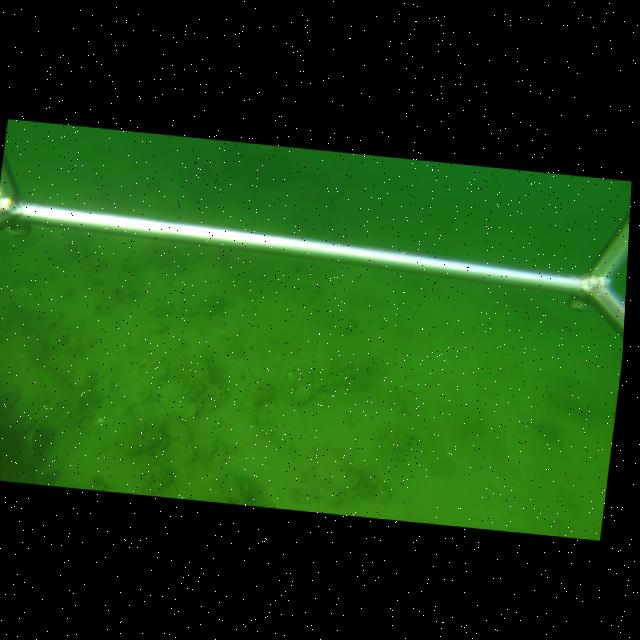Oyster-Closed: (291, 381, 312, 406)
